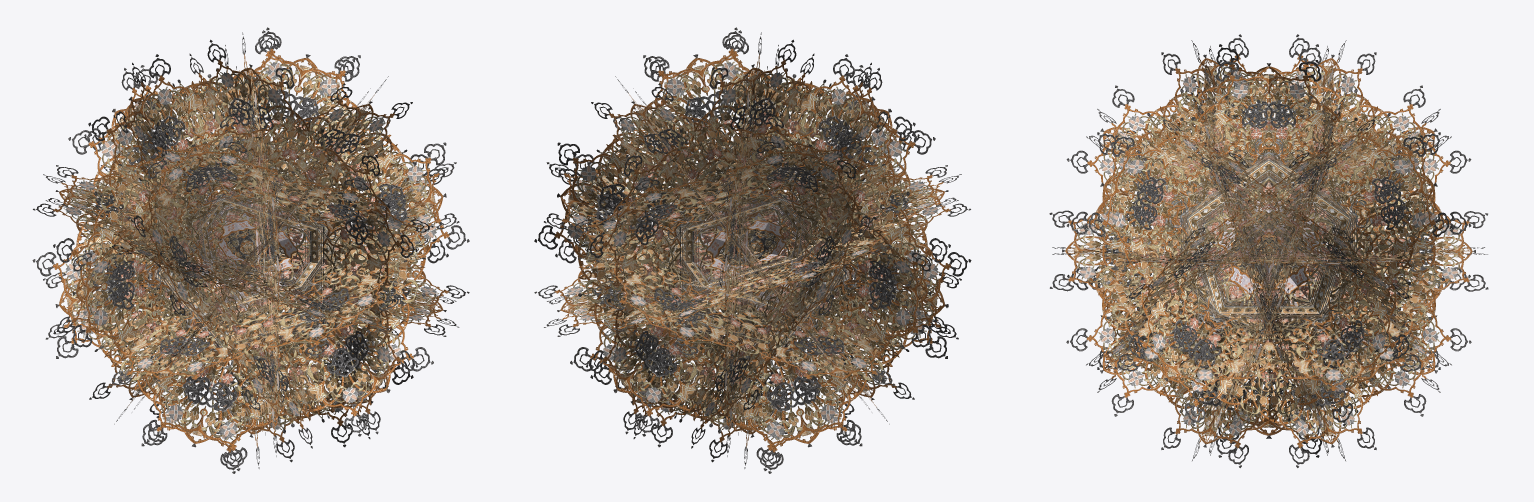
The model's file is GreatDodecahemicosahedron3.gltf.
3 renders of one model, left to right at view 1: azimuth 30°, elevation 25°; view 2: azimuth 150°, elevation 25°; view 3: azimuth 270°, elevation 25°, orthographic.
Parts seen in each view (by area): view 1: GreatDodecahemicosahedron; view 2: GreatDodecahemicosahedron; view 3: GreatDodecahemicosahedron.
Boxes of the visible parts, left/top/right/bottom form: GreatDodecahemicosahedron: left=32, top=27, right=469, bottom=473; GreatDodecahemicosahedron: left=534, top=27, right=971, bottom=473; GreatDodecahemicosahedron: left=1049, top=34, right=1488, bottom=467.
Bounding box in the file's own units: 2 × 2 × 2.
Materials: 1 (1 with a texture image).
